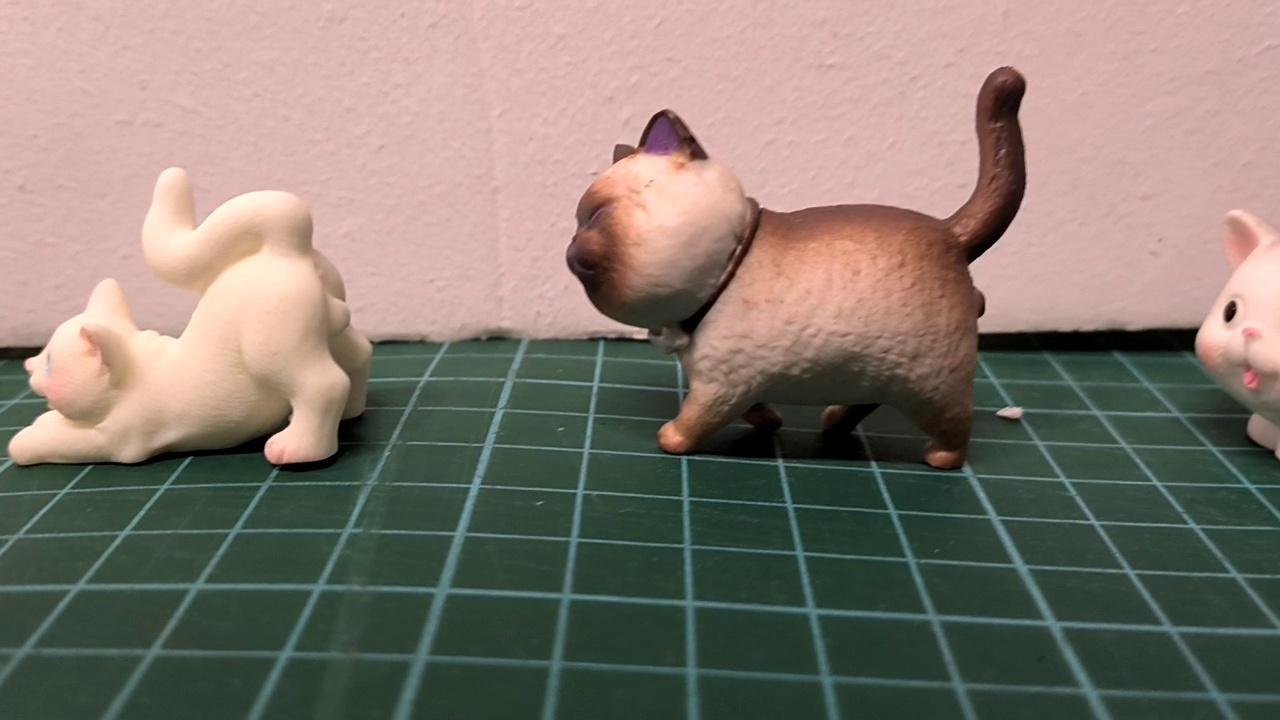pet: (555, 49, 1044, 485), (6, 161, 384, 469)
